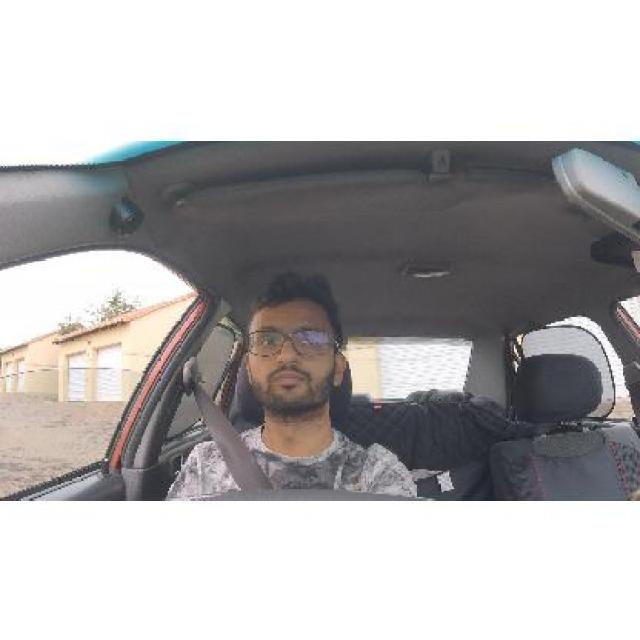person: (236, 276, 353, 428)
